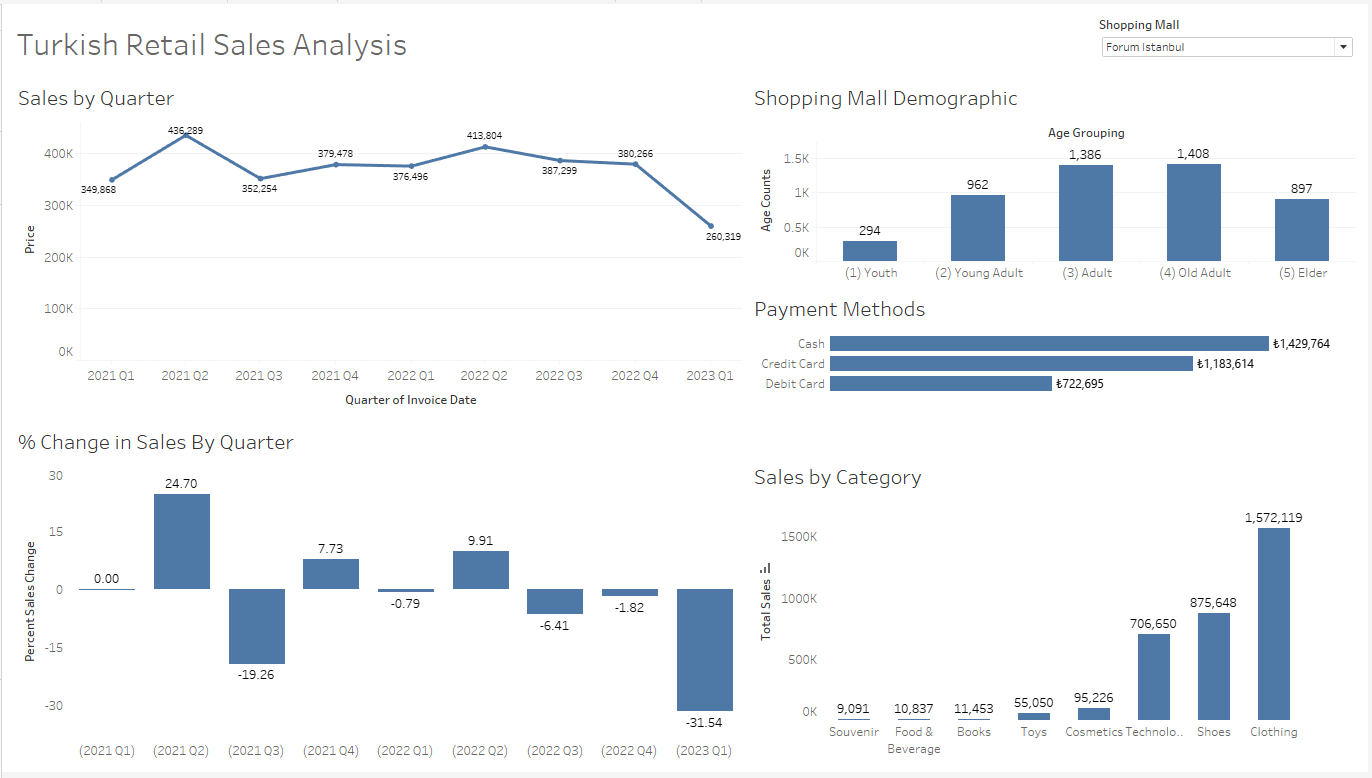

The dashboard page shown, as its layout file describes it:
{"tool":"tableau","page":{"name":"Turkish Retail Sales Analysis","canvas":[1366,768],"ordinal":0},"visuals":[{"type":"text","box":[8,8,1085,63]},{"type":"filter","title":"Sales By Category","param":"[federated.1xjh03k1kapgee0znt1s91md3rmg].[none:shopping_mall:nk]","box":[1093,8,265,52]},{"type":"worksheet","title":"Mall Sales By Quarter","mark":"Automatic","rows":["price"],"cols":["invoice_date"],"box":[8,71,736,344.5]},{"type":"worksheet","title":"Mall Demographics","mark":"Automatic","rows":["age_counts"],"cols":["age_grouping"],"box":[744,71,614,211]},{"type":"worksheet","title":"Sheet 6","mark":"Automatic","rows":["payment_method (payment_types)"],"cols":["total_sales (payment_types)"],"box":[744,282,614,168]},{"type":"worksheet","title":"Percent Change by Quarter","mark":"Bar","rows":["percent_sales_change"],"cols":["quarter (quarterly_sales)"],"box":[8,415.5,736,344.5]},{"type":"worksheet","title":"Sales By Category","mark":"Automatic","rows":["price"],"cols":["category"],"box":[744,450,614,310]}]}

Visuals, with their boxes in screenshot pixels (x1, y1, x2, y2), scaled from the page's 1366x768 canvas onto the 1372x778 screenshot:
text: x1=8 y1=8 x2=1098 y2=72
"Sales By Category" filter: x1=1098 y1=8 x2=1364 y2=61
"Mall Sales By Quarter" worksheet: x1=8 y1=72 x2=747 y2=421
"Mall Demographics" worksheet: x1=747 y1=72 x2=1364 y2=286
"Sheet 6" worksheet: x1=747 y1=286 x2=1364 y2=456
"Percent Change by Quarter" worksheet (Bar marks): x1=8 y1=421 x2=747 y2=770
"Sales By Category" worksheet: x1=747 y1=456 x2=1364 y2=770
